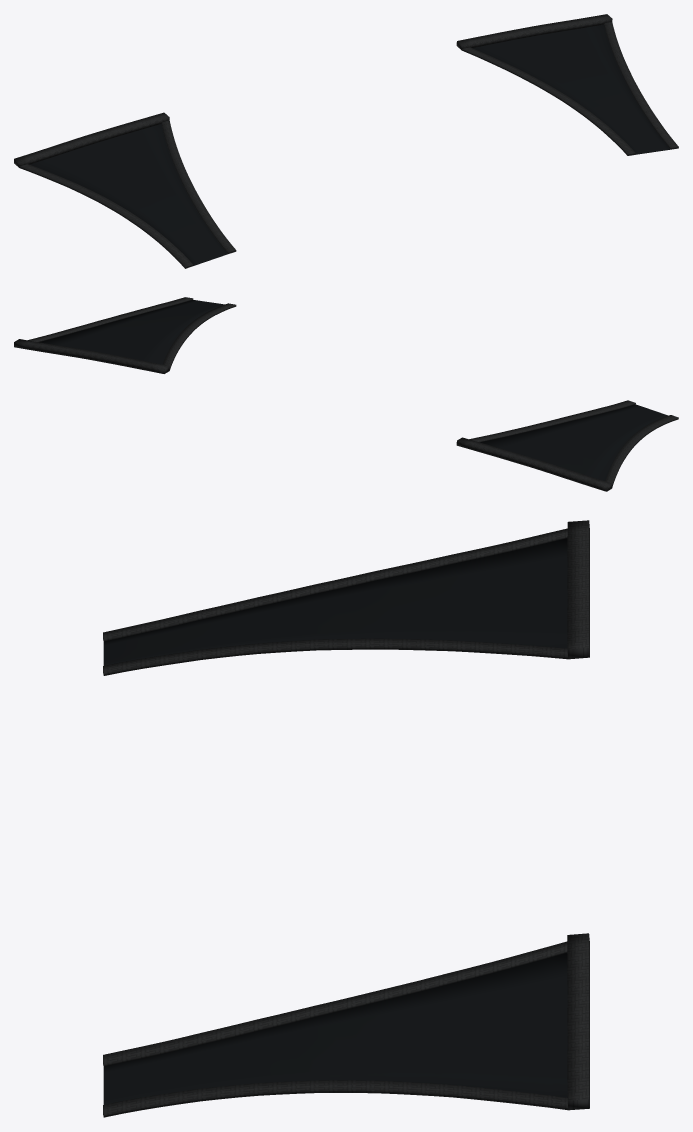
File: DT72_naca_ducts.glb
3 renders of one model, top to bottom at view 1: azimuth 30°, elevation 25°; view 2: azimuth 150°, elevation 25°; view 3: azimuth 270°, elevation 25°, orthographic. The views are drawn at different scales.
Visible parts, largest first — view 1: MOD_NB_DT72_recess_R, MOD_NB_DT72_recess_L, MOD_NB_DT72_lip_R, MOD_NB_DT72_surround_Ro, MOD_NB_DT72_lip_L, MOD_NB_DT72_surround_Li, MOD_NB_DT72_surround_Ri, MOD_NB_DT72_surround_Lo; view 2: MOD_NB_DT72_recess_R, MOD_NB_DT72_recess_L, MOD_NB_DT72_lip_R, MOD_NB_DT72_lip_L, MOD_NB_DT72_surround_Ri, MOD_NB_DT72_surround_Lo, MOD_NB_DT72_surround_Ro, MOD_NB_DT72_surround_Li; view 3: MOD_NB_DT72_recess_L, MOD_NB_DT72_recess_R, MOD_NB_DT72_surround_Lo, MOD_NB_DT72_surround_Li, MOD_NB_DT72_surround_Ri, MOD_NB_DT72_surround_Ro, MOD_NB_DT72_lip_L, MOD_NB_DT72_lip_R.
Boxes of the visible parts, x1,y1,x2,y2 form: MOD_NB_DT72_recess_R: (30,124,227,265); MOD_NB_DT72_recess_L: (473,24,670,154); MOD_NB_DT72_lip_R: (14,112,169,167); MOD_NB_DT72_surround_Ro: (19,164,193,268); MOD_NB_DT72_lip_L: (456,14,612,50); MOD_NB_DT72_surround_Li: (462,47,635,155); MOD_NB_DT72_surround_Ri: (161,120,236,253); MOD_NB_DT72_surround_Lo: (604,22,678,149); MOD_NB_DT72_recess_R: (480,404,667,480); MOD_NB_DT72_recess_L: (39,300,224,364); MOD_NB_DT72_lip_R: (456,437,612,491); MOD_NB_DT72_lip_L: (14,339,169,373); MOD_NB_DT72_surround_Ri: (469,400,635,442); MOD_NB_DT72_surround_Lo: (28,297,193,342); MOD_NB_DT72_surround_Ro: (605,415,678,486); MOD_NB_DT72_surround_Li: (162,303,236,370); MOD_NB_DT72_recess_L: (103,953,567,1104); MOD_NB_DT72_recess_R: (103,538,567,665); MOD_NB_DT72_surround_Lo: (103,1080,568,1117); MOD_NB_DT72_surround_Li: (103,941,567,1066); MOD_NB_DT72_surround_Ri: (103,638,568,675); MOD_NB_DT72_surround_Ro: (103,528,567,641); MOD_NB_DT72_lip_L: (567,933,589,1110); MOD_NB_DT72_lip_R: (567,520,589,659).
Size of the model in its own units: 0.885 by 0.0616 by 0.3147.
2 materials, 1 textured.
